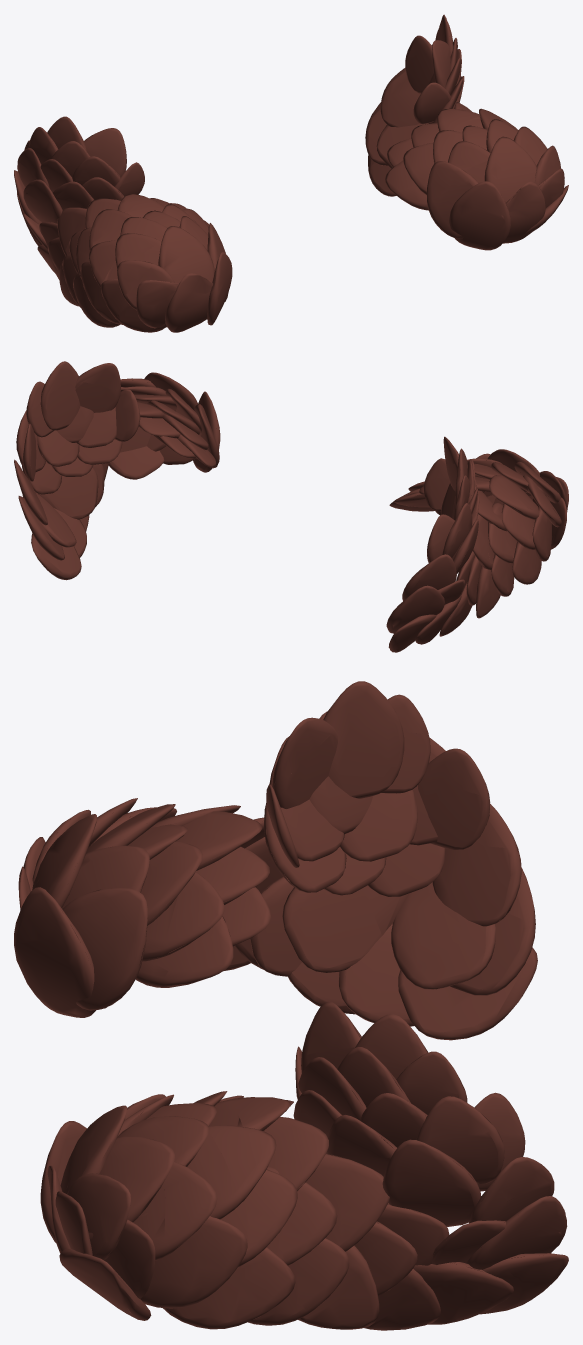
Rendered from sculpture_20.glb.
3 views of the same model, one above another, from view 1: azimuth 30°, elevation 25°; view 2: azimuth 150°, elevation 25°; view 3: azimuth 270°, elevation 25° (orthographic). The views are drawn at different scales.
Visible parts, largest first — view 1: SCL_01_12; view 2: SCL_01_12; view 3: SCL_01_12.
Part boxes in pixels (x1,y1,x2,y2): SCL_01_12: (14, 14, 568, 332); SCL_01_12: (14, 361, 568, 652); SCL_01_12: (14, 681, 568, 1330).
Size of the model in its own units: 0.5719 by 0.2185 by 0.3325.
